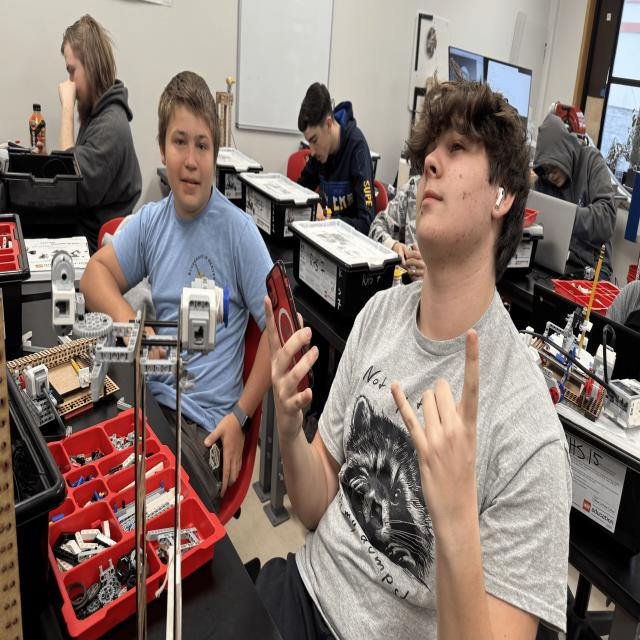pen: (266, 260, 314, 402), (203, 431, 226, 490), (8, 142, 35, 156)
